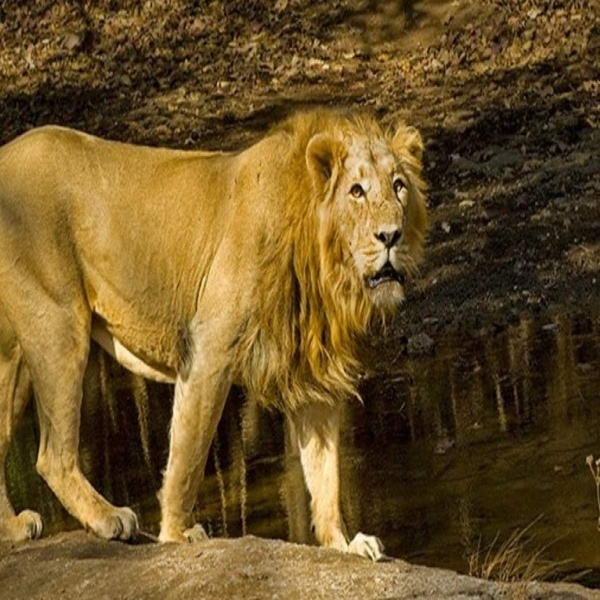Lion: (1, 106, 431, 562)
